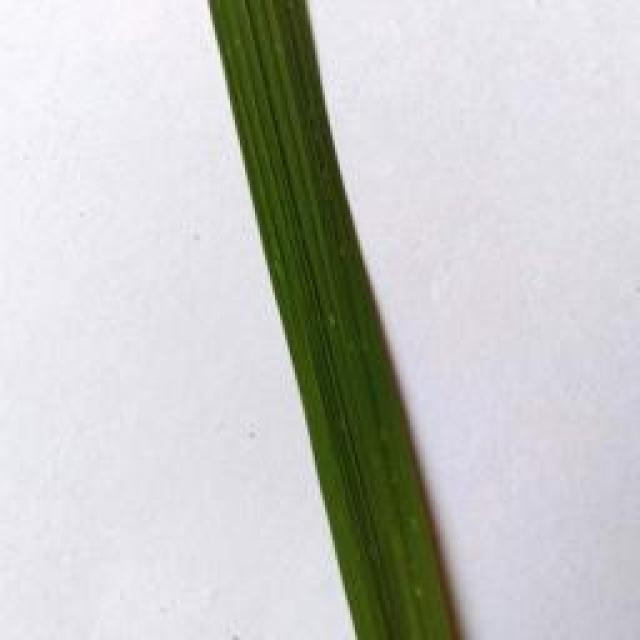Healthy-Plant: (203, 0, 457, 640)
